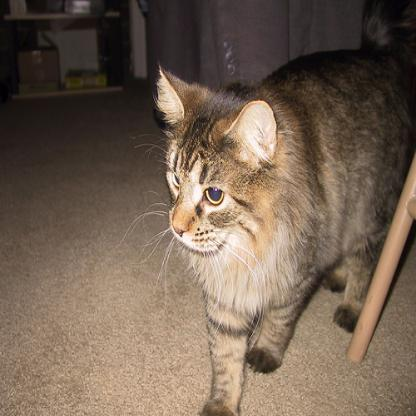cat: (154, 49, 415, 415)
